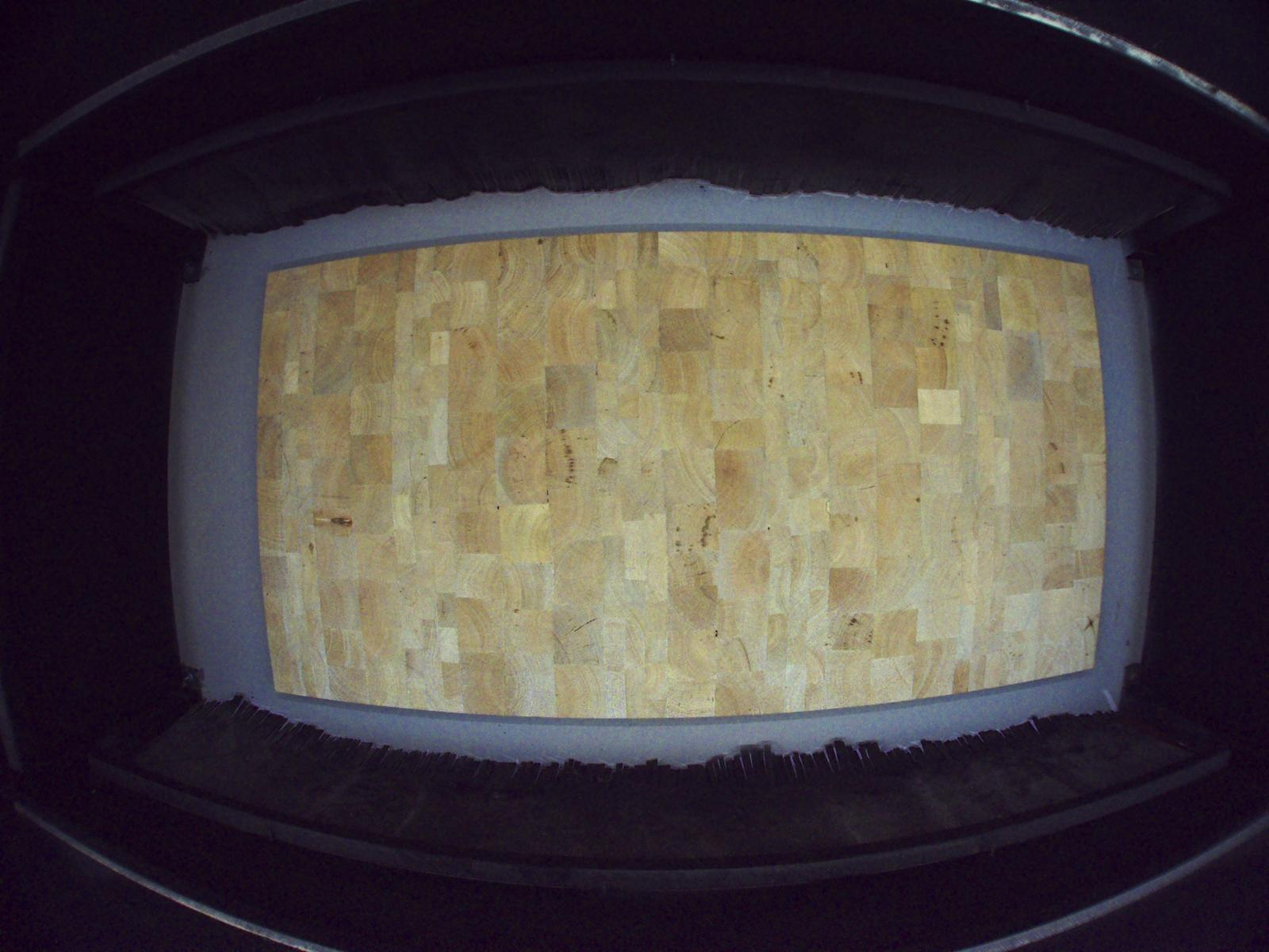nudillo: (314, 511, 353, 529)
